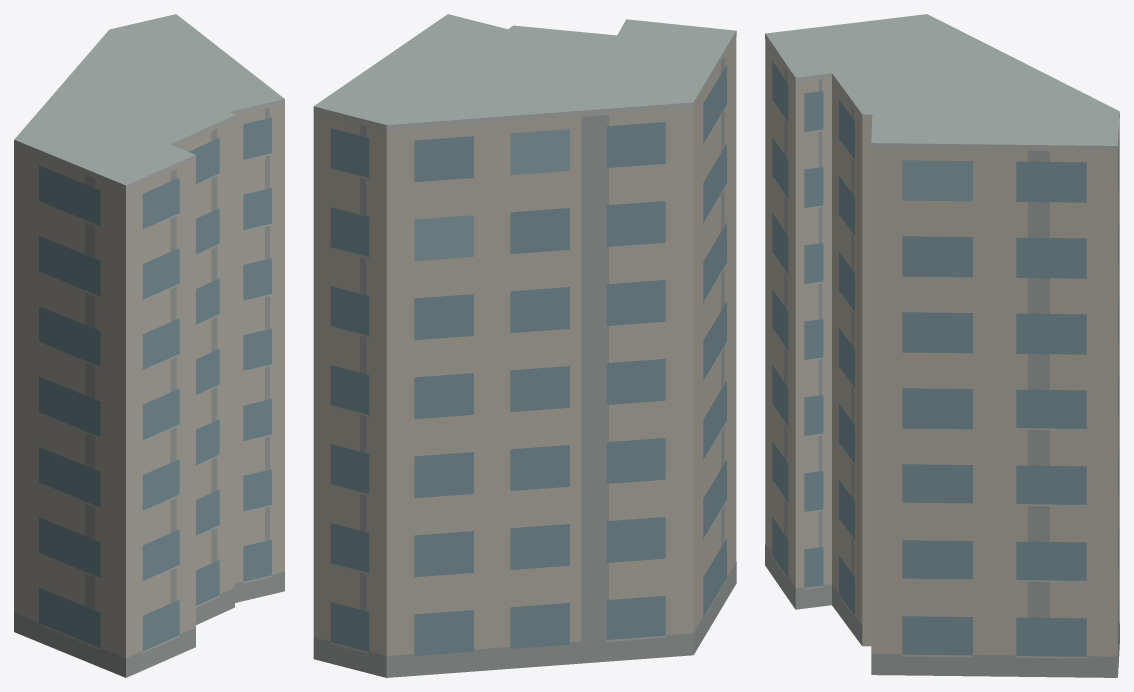
Rendered from survey-upis-32457830.glb.
3 renders of one model, left to right at view 1: azimuth 30°, elevation 25°; view 2: azimuth 150°, elevation 25°; view 3: azimuth 270°, elevation 25°, orthographic. The views are drawn at different scales.
Parts seen in each view (by area): view 1: survey-upis-32457830.tmp; view 2: survey-upis-32457830.tmp; view 3: survey-upis-32457830.tmp.
Part boxes in pixels (left/top/right/bottom): survey-upis-32457830.tmp: left=14, top=14, right=284, bottom=677; survey-upis-32457830.tmp: left=313, top=14, right=736, bottom=677; survey-upis-32457830.tmp: left=765, top=14, right=1119, bottom=677.
Size of the model in its own units: 11.71 by 22 by 13.3.
